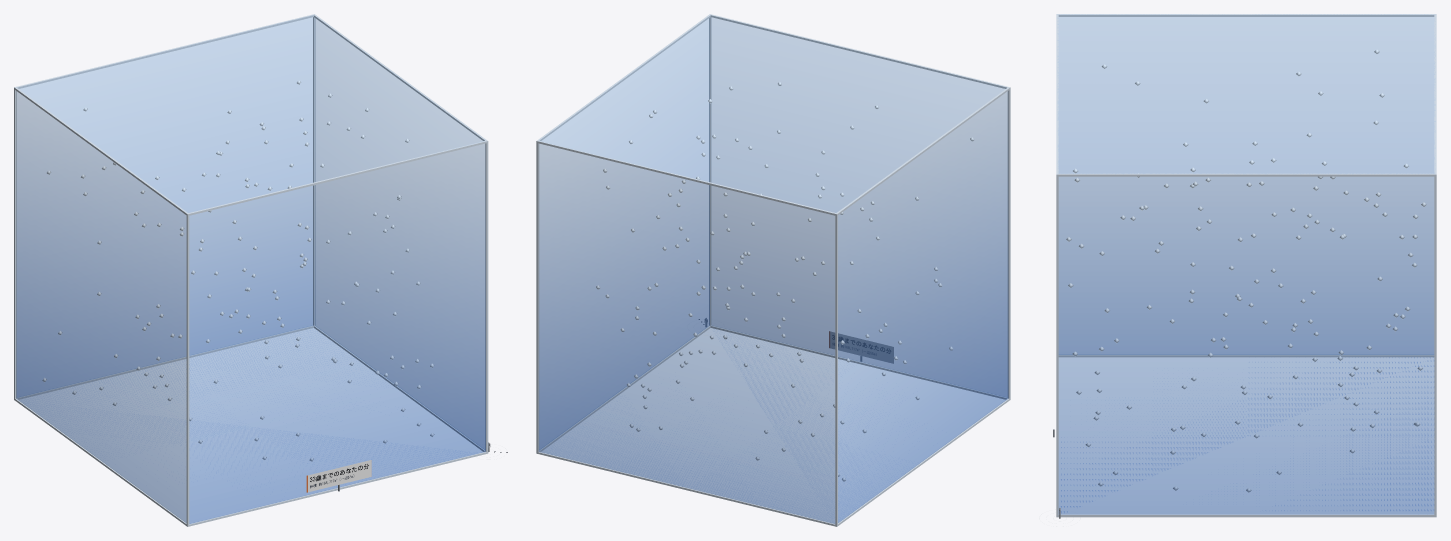
Rendered from cube_life_33.glb.
3 renders of one model, left to right at view 1: azimuth 30°, elevation 25°; view 2: azimuth 150°, elevation 25°; view 3: azimuth 270°, elevation 25°, orthographic. The views are drawn at different scales.
Parts seen in each view (by area): view 1: co2, edge, dots, label; view 2: co2, edge, dots, label; view 3: co2, edge, dots.
Boxes of the visible parts, x1,y1,x2,y2 form: co2: [16, 15, 485, 523]; edge: [14, 14, 488, 526]; dots: [42, 80, 434, 461]; label: [306, 460, 371, 492]; co2: [539, 15, 1008, 523]; edge: [536, 14, 1010, 526]; dots: [596, 82, 974, 481]; label: [829, 331, 893, 363]; co2: [1058, 14, 1435, 514]; edge: [1056, 14, 1436, 517]; dots: [1066, 49, 1426, 492].
Bounding box in the file's own units: 58.99 × 55.26 × 58.09.
8 materials, 3 textured.
